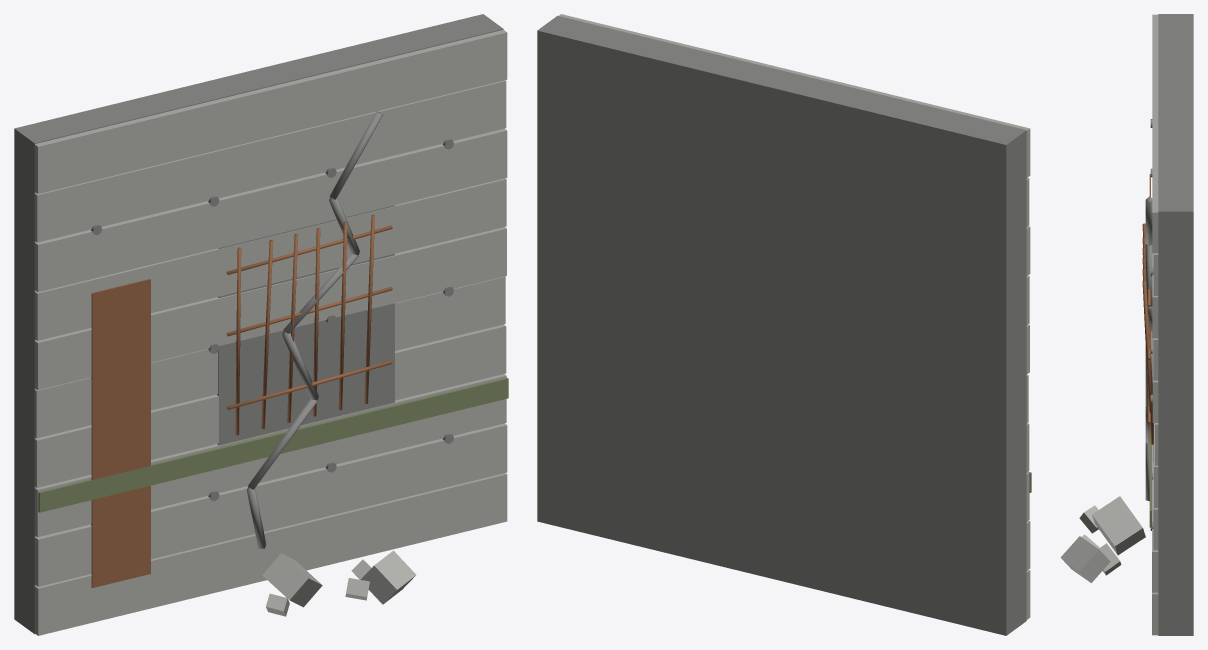
File: wall_bk_cracked.glb
3 renders of one model, left to right at view 1: azimuth 30°, elevation 25°; view 2: azimuth 150°, elevation 25°; view 3: azimuth 270°, elevation 25°, orthographic. The views are drawn at different scales.
Parts seen in each view (by area): view 1: wall_bk_cracked; view 2: wall_bk_cracked; view 3: wall_bk_cracked.
Part boxes in pixels (x1,y1,x2,y2): wall_bk_cracked: (14,14,508,635); wall_bk_cracked: (537,14,1031,635); wall_bk_cracked: (1060,14,1193,635).
Size of the model in its own units: 4 by 4.13 by 1.14.
